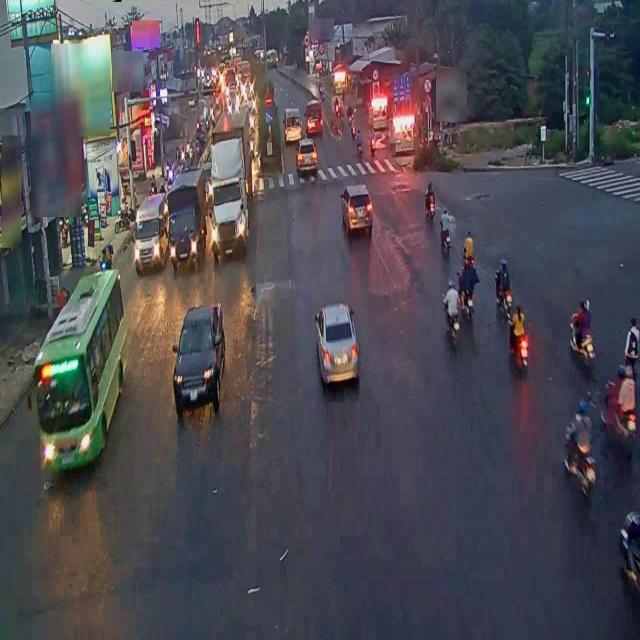bus: (34, 267, 130, 471)
car: (171, 293, 225, 418), (312, 296, 362, 386), (339, 177, 375, 238)
motorcycle: (563, 394, 599, 498), (566, 295, 598, 368), (506, 301, 528, 373), (439, 276, 461, 347), (494, 254, 512, 316), (438, 203, 452, 254), (422, 178, 436, 222)
